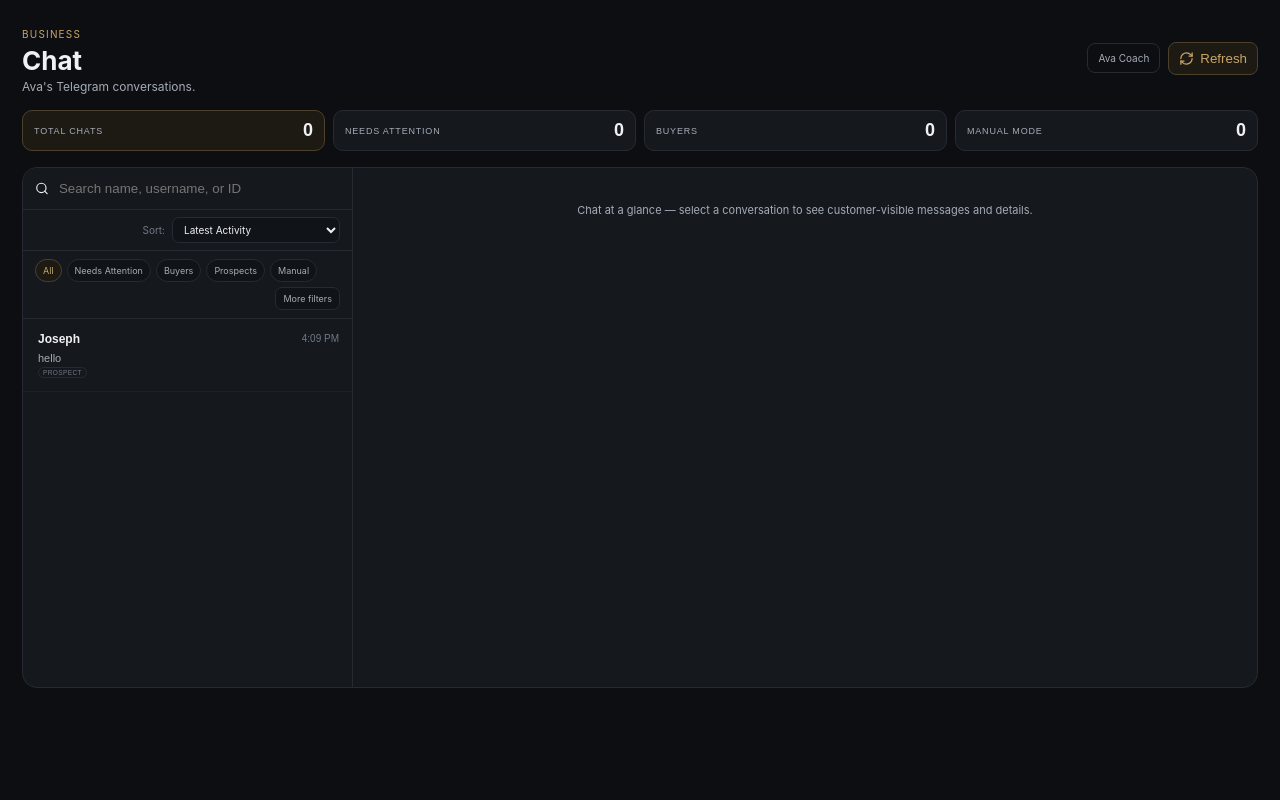
Test: PPV Escalation intelligence › renders backend-authorized time-waster state without hiding the relationship
Click the button "Joseph hello PROSPECT 4:09 PM". click: {"x": 59, "y": 339}
box: [23,319,352,392]
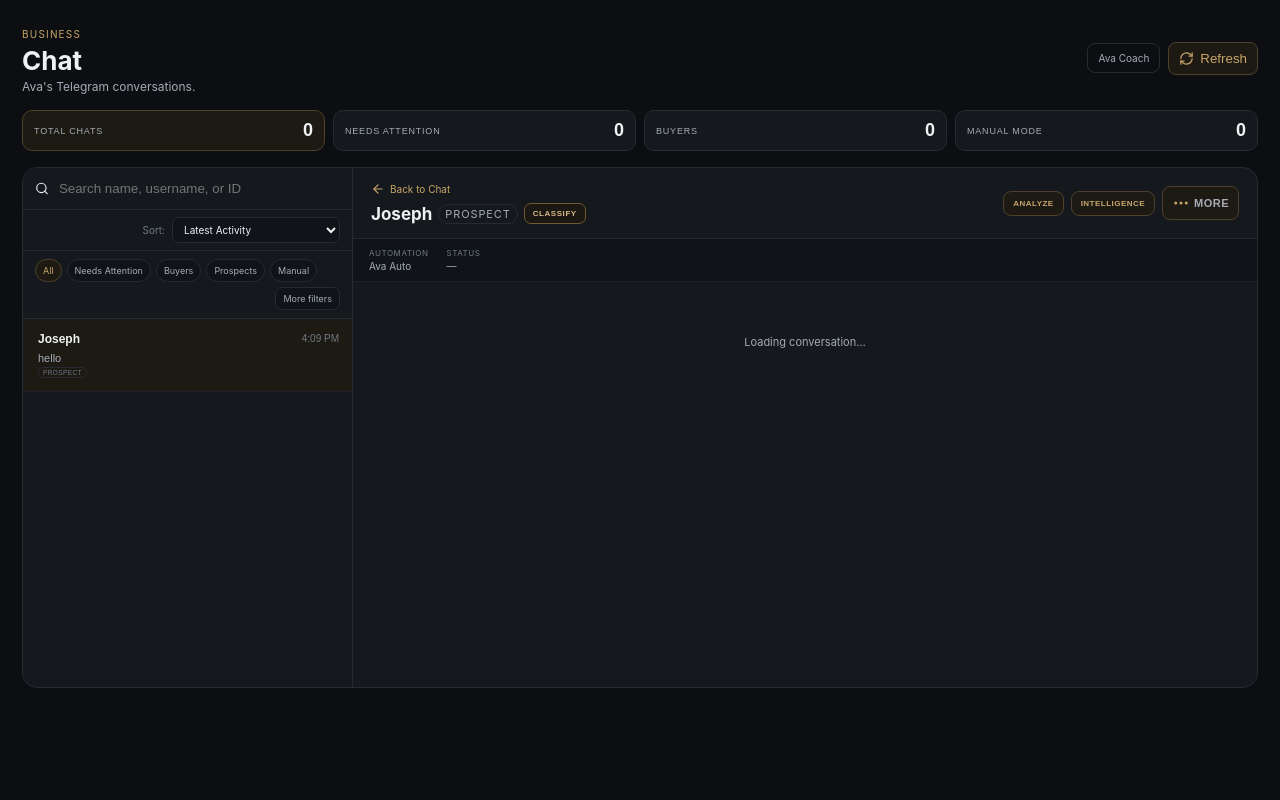
Click the button with aria-label "Open Customer Intelligence". click: {"x": 1113, "y": 203}
box: [1071,190,1155,216]
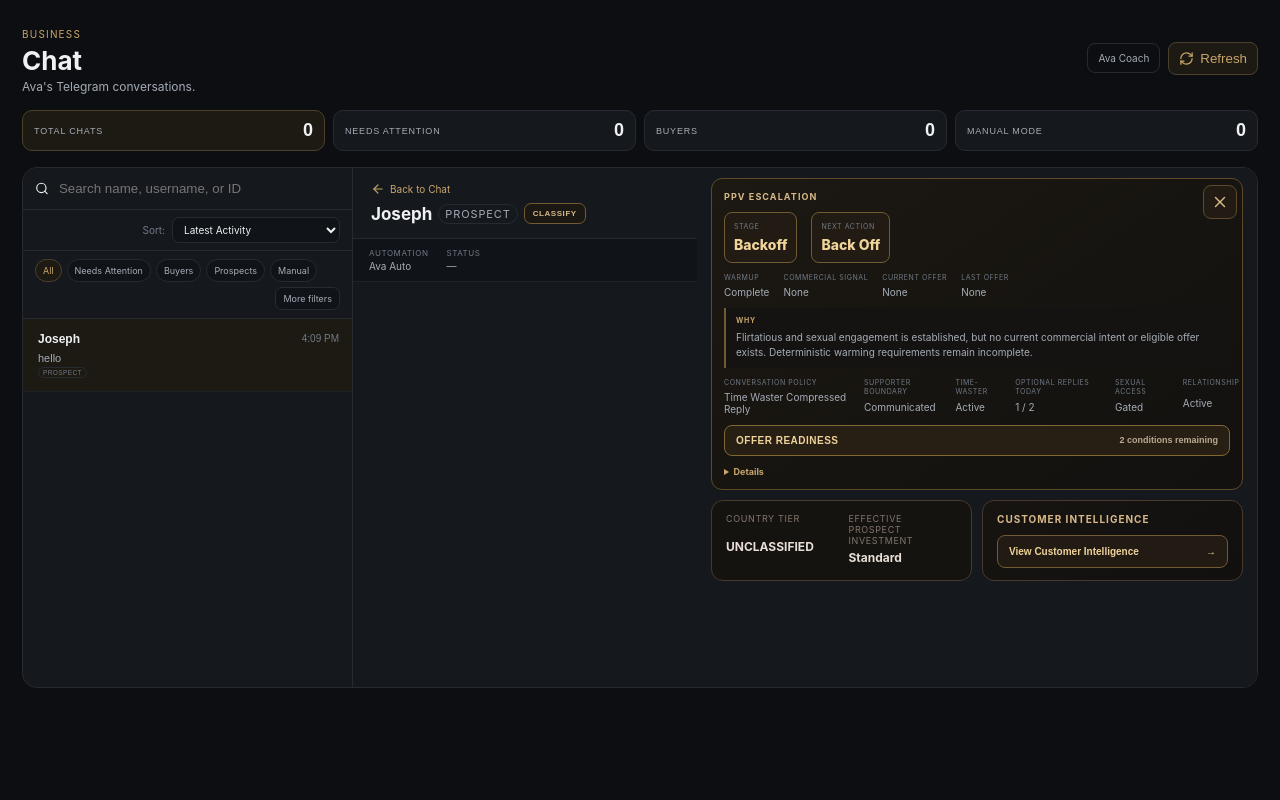
Expected: the element named "Customer Intelligence" is shown, [827,168,1257,687]
